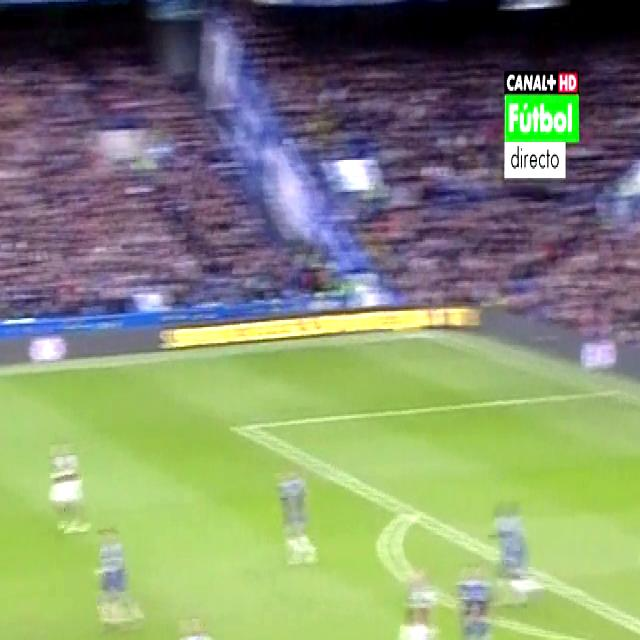referee: (0, 572, 4, 640)
soccer-player: (263, 446, 325, 577), (86, 514, 147, 637), (488, 480, 542, 616), (41, 422, 95, 545), (390, 546, 449, 640), (448, 547, 501, 640), (166, 601, 230, 640)
